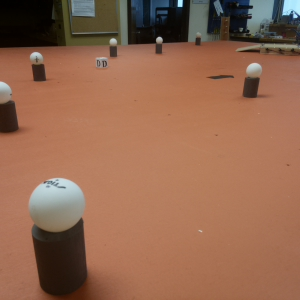obstacle: (26, 178, 89, 293), (1, 80, 17, 137), (246, 64, 260, 97), (31, 51, 45, 83), (155, 34, 164, 56), (109, 38, 118, 59), (195, 32, 201, 47)
side: (260, 45, 300, 57)
slope: (237, 44, 259, 55)
